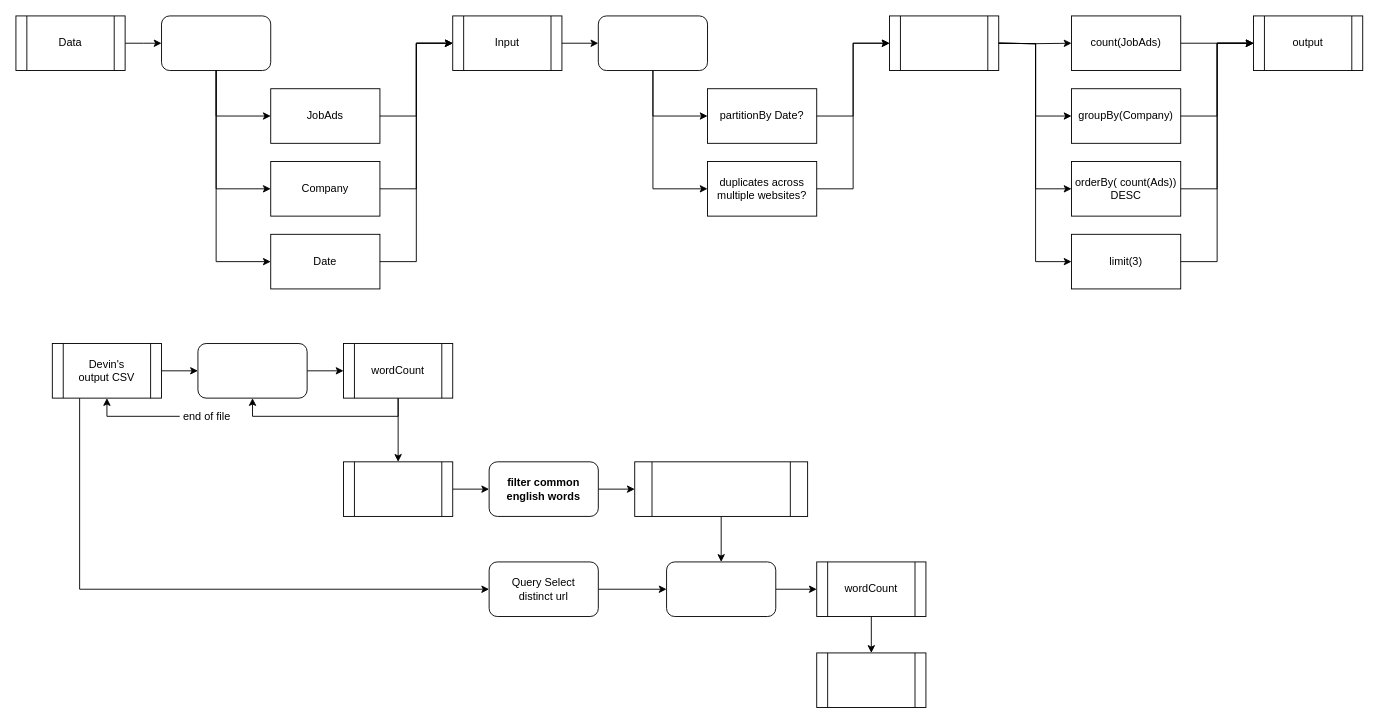
This 1379x723 diagram has some shape labels left out. The shapes that lost their labels are listed below. From the top down, each one's box as (x1, y1, x2, y2) in pixels, then its label:
(161, 15, 271, 71): Select
(597, 15, 708, 71): Filter
(889, 15, 999, 71): Query
(197, 343, 307, 398): Query Select warc_filename
(343, 461, 453, 516): outputDF
(634, 461, 808, 516): output: a list of company names with how many times the name is repeated
(666, 561, 776, 617): match company name to url
(816, 652, 926, 708): output: largestJob
